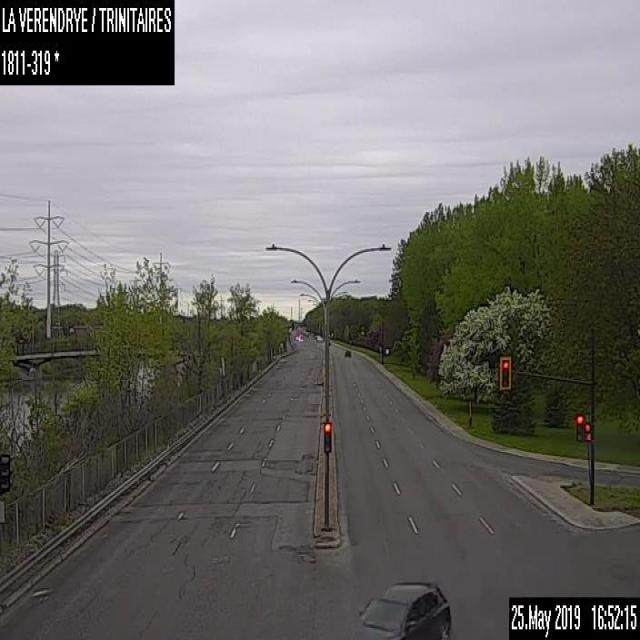vehicle: (338, 580, 450, 639), (344, 349, 350, 356)
